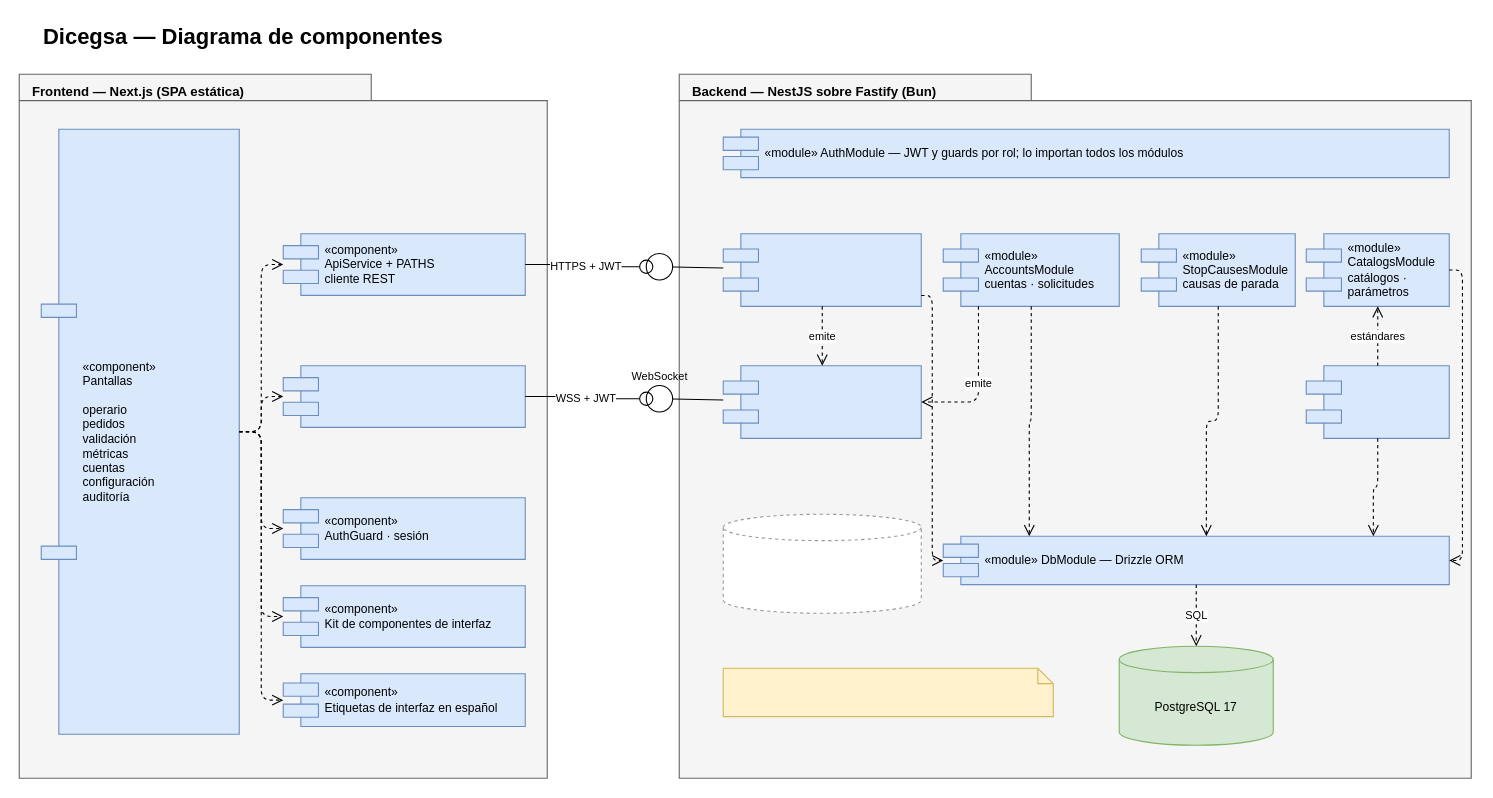
Image size: 1493x798. Some labels were removed from this diagram. The box of each missing label's shape, as (x1, y1, x2, y2) in pixels:
Redis (opcional) solo con más de una instancia de API: (722, 513, 921, 613)
REST /api: (645, 252, 673, 280)
Toda acción sobre cuentas, pedidos, PKL y catálogos deja rastro en la auditoría.: (722, 667, 1053, 717)
«component» useLive cliente Socket.io: (282, 365, 525, 427)
«module» EventsModule gateway Socket.io · salas: (722, 365, 921, 438)
«module» MetricsModule OLE · métricas vigentes: (1305, 365, 1449, 438)
«module» OrdersModule pedidos · PKL · alisto · validación: (722, 233, 921, 306)
